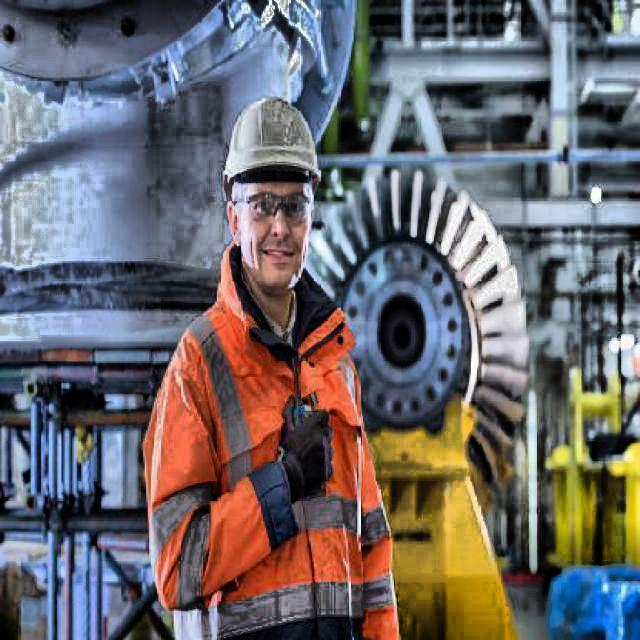safety_jacket: (144, 243, 399, 640)
